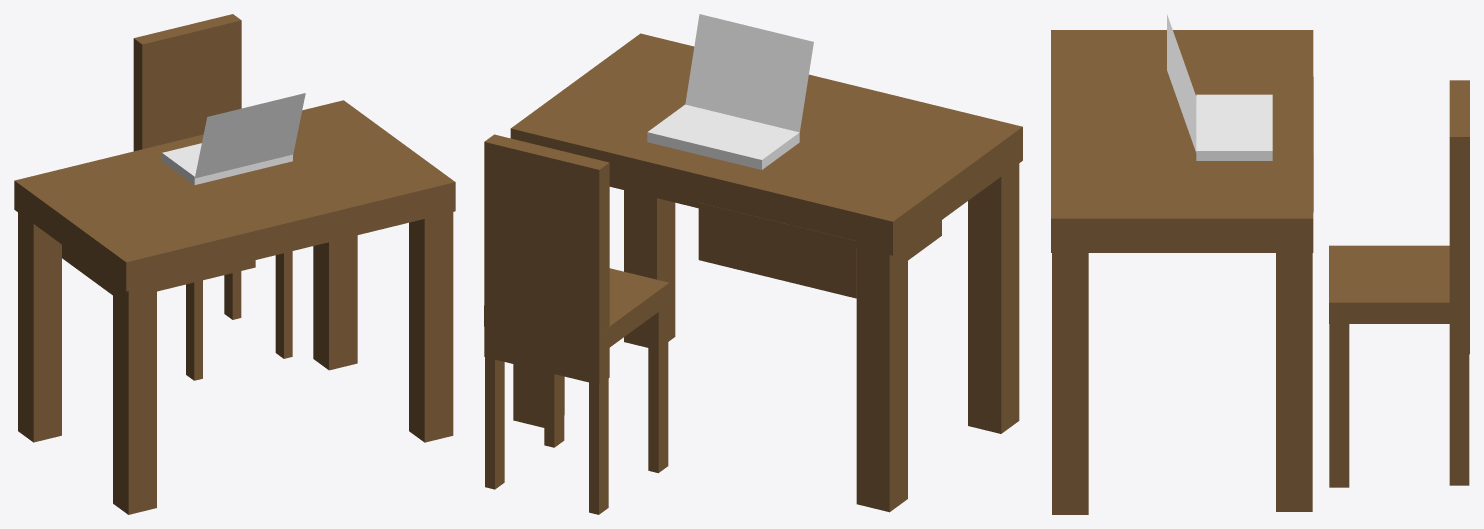
The picture shows the model from 3 angles, left to right: view 1: azimuth 30°, elevation 25°; view 2: azimuth 150°, elevation 25°; view 3: azimuth 270°, elevation 25°; orthographic projection. The views are drawn at different scales.
Parts seen in each view (by area): view 1: Cube.001, Cube.005; view 2: Cube.001, Cube.005; view 3: Cube.001, Cube.005.
Boxes of the visible parts, x1,y1,x2,y2 form: Cube.001: (14, 14, 455, 514); Cube.005: (162, 93, 305, 185); Cube.001: (484, 33, 1022, 514); Cube.005: (647, 14, 813, 169); Cube.001: (1051, 30, 1469, 514); Cube.005: (1167, 14, 1272, 160).
Size of the model in its own units: 4.66 by 4.47 by 4.37.
